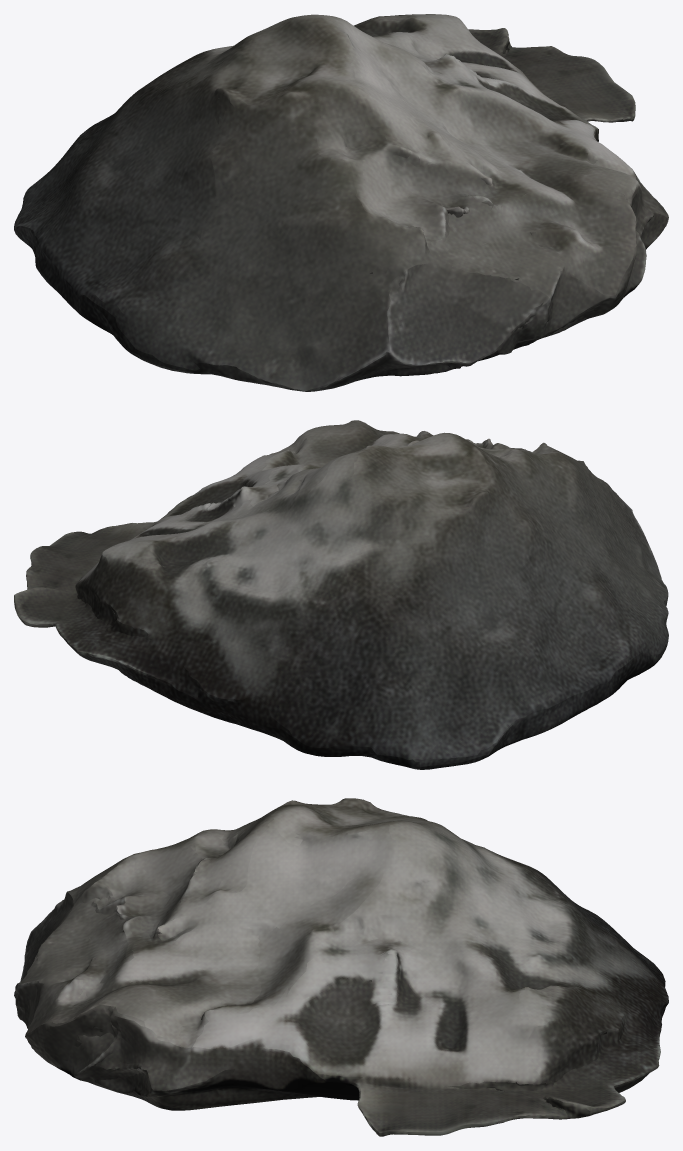
3 views of the same model, one above another, from view 1: azimuth 30°, elevation 25°; view 2: azimuth 150°, elevation 25°; view 3: azimuth 270°, elevation 25° (orthographic). The views are drawn at different scales.
Visible parts, largest first — view 1: world; view 2: world; view 3: world.
Boxes of the visible parts, <box> form: world: <box>14,14,668,391</box>; world: <box>14,420,668,769</box>; world: <box>14,798,668,1136</box>.
Bounding box in the file's own units: 1.2 × 0.4518 × 1.2.
Materials: 1 (1 with a texture image).
